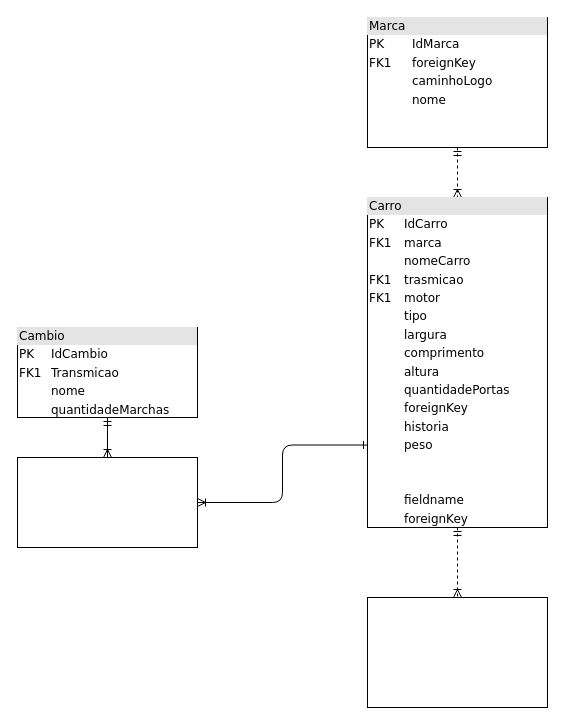
The diagram is 565 pixels wide and 725 high, and some of its shapes have lost their labels. The centre of each missing label's shape, as x and y in pixels:
"Motor PK IdMotor FK1 foreignKey potencia torque FK1 foreignKey" belongs at point (457, 652).
"Transmicao PK IdTransmicao nome tipo" belongs at point (107, 502).
